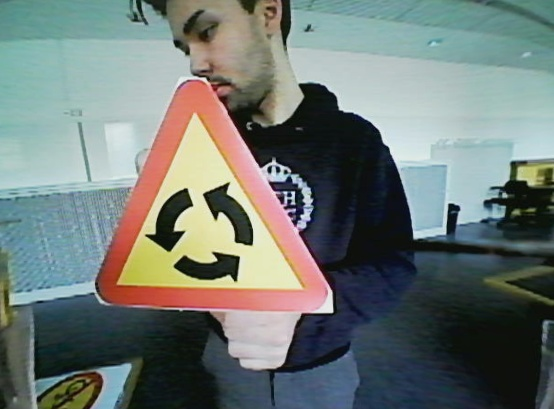roundabout_warning: (80, 72, 350, 325)
